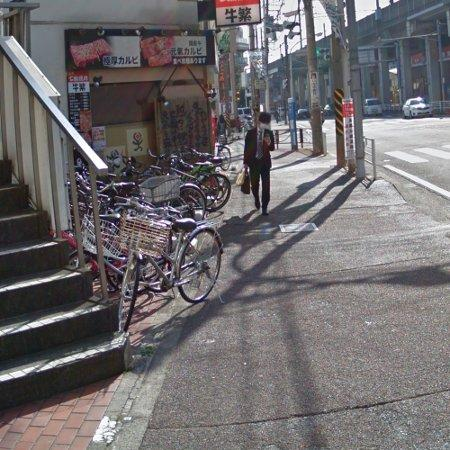stairs: (0, 160, 128, 410)
